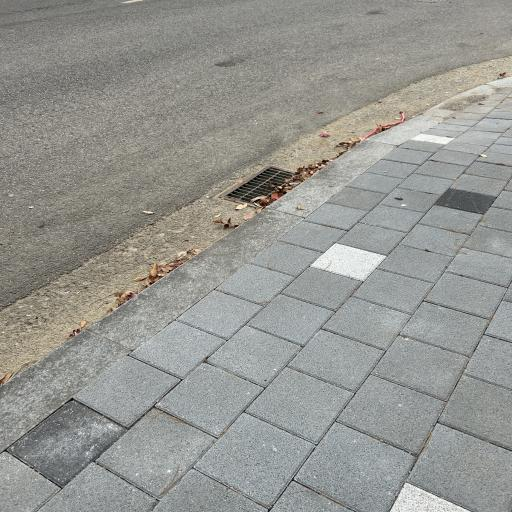debris: (256, 173, 305, 205), (268, 182, 271, 186)
drain: (229, 166, 307, 207)
